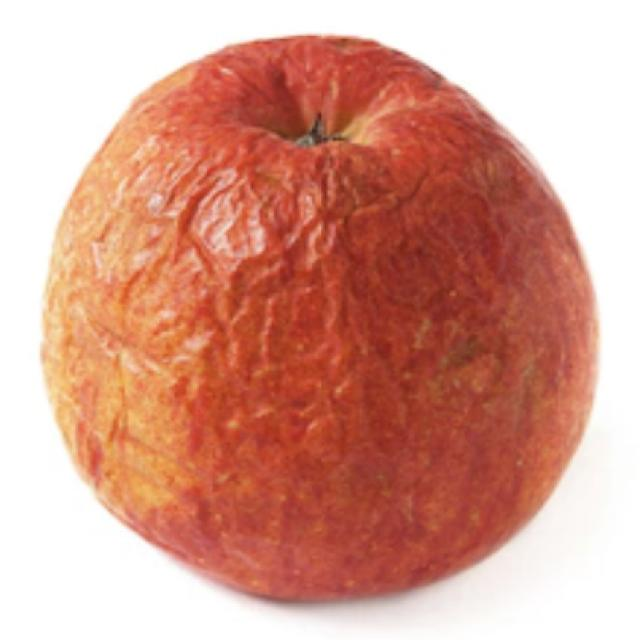rotten_apple: (43, 29, 597, 609)
